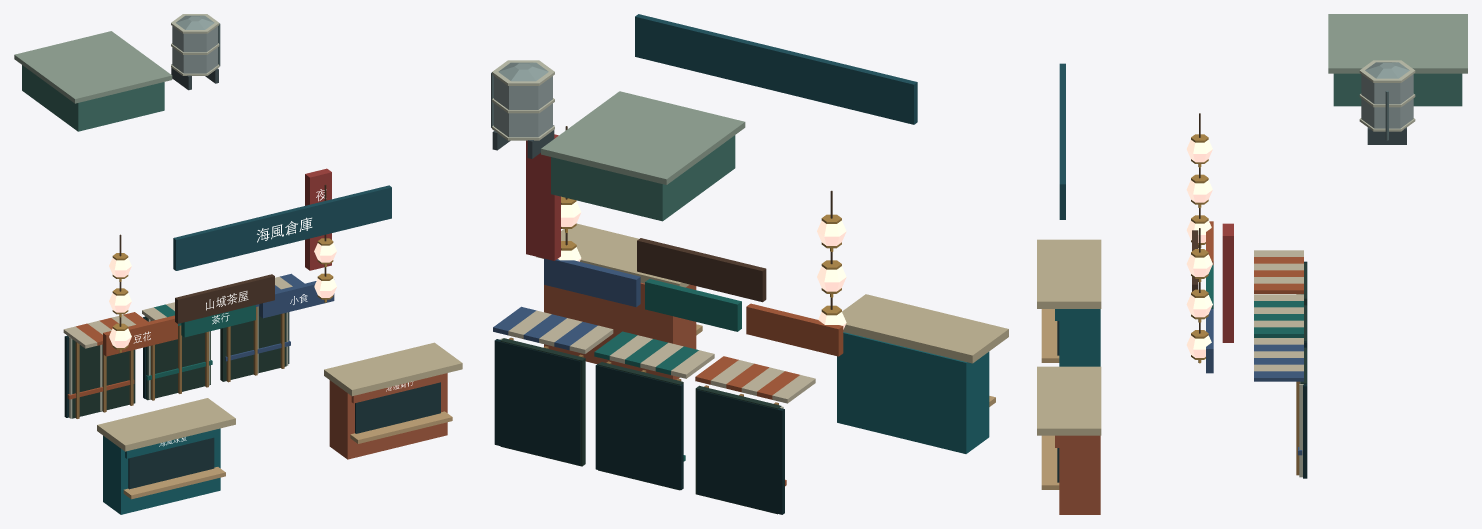
The model's file is taiwan-city-low-v1.glb.
3 views of the same model, side by side, from view 1: azimuth 30°, elevation 25°; view 2: azimuth 150°, elevation 25°; view 3: azimuth 270°, elevation 25° (orthographic). The views are drawn at different scales.
Parts seen in each view (by area): view 1: harbor_CityPaint, street_CityPaint, tea_CityPaint, tea_CityLight, harbor_CityLight; view 2: street_CityPaint, harbor_CityPaint, tea_CityPaint, tea_CityLight; view 3: street_CityPaint, harbor_CityPaint, tea_CityLight, tea_CityPaint.
Part boxes in pixels (x1,y1,x2,y2): harbor_CityPaint: (97, 185, 462, 514); street_CityPaint: (14, 14, 334, 418); tea_CityPaint: (72, 184, 333, 418); tea_CityLight: (109, 243, 336, 347); harbor_CityLight: (159, 217, 413, 446); street_CityPaint: (491, 60, 843, 514); harbor_CityPaint: (536, 14, 1008, 453); tea_CityPaint: (500, 126, 841, 514); tea_CityLight: (558, 201, 846, 329); street_CityPaint: (1206, 14, 1467, 478); harbor_CityPaint: (1037, 63, 1101, 514); tea_CityLight: (1186, 139, 1212, 357); tea_CityPaint: (1191, 113, 1306, 475).
Bounding box in the file's own units: 12.5 × 11.98 × 12.05.
